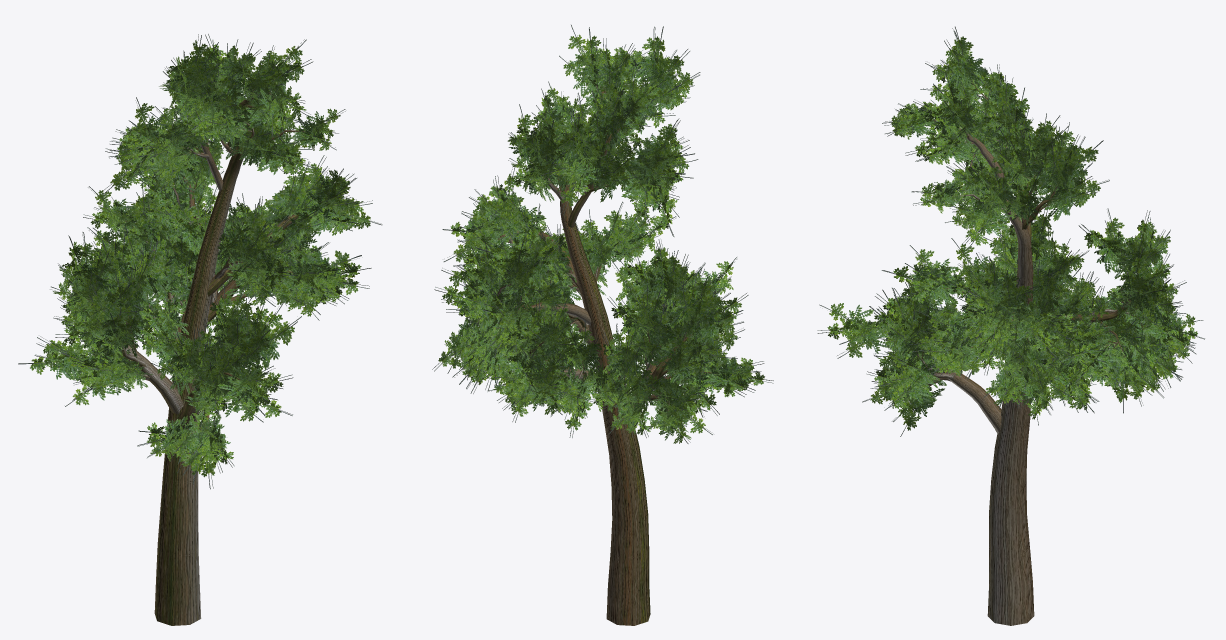
The model's file is eztree-black-walnut-stand-b.glb.
The picture shows the model from 3 angles, left to right: view 1: azimuth 30°, elevation 25°; view 2: azimuth 150°, elevation 25°; view 3: azimuth 270°, elevation 25°; orthographic projection. The views are drawn at different scales.
Parts seen in each view (by area): view 1: eztree-black-walnut-stand-b; view 2: eztree-black-walnut-stand-b; view 3: eztree-black-walnut-stand-b.
Part boxes in pixels (x1,y1,x2,y2): eztree-black-walnut-stand-b: (18, 34, 382, 625); eztree-black-walnut-stand-b: (432, 25, 773, 625); eztree-black-walnut-stand-b: (817, 26, 1204, 625).
Size of the model in its own units: 41.19 by 73.11 by 45.08.
Materials: 2 (2 with a texture image).
